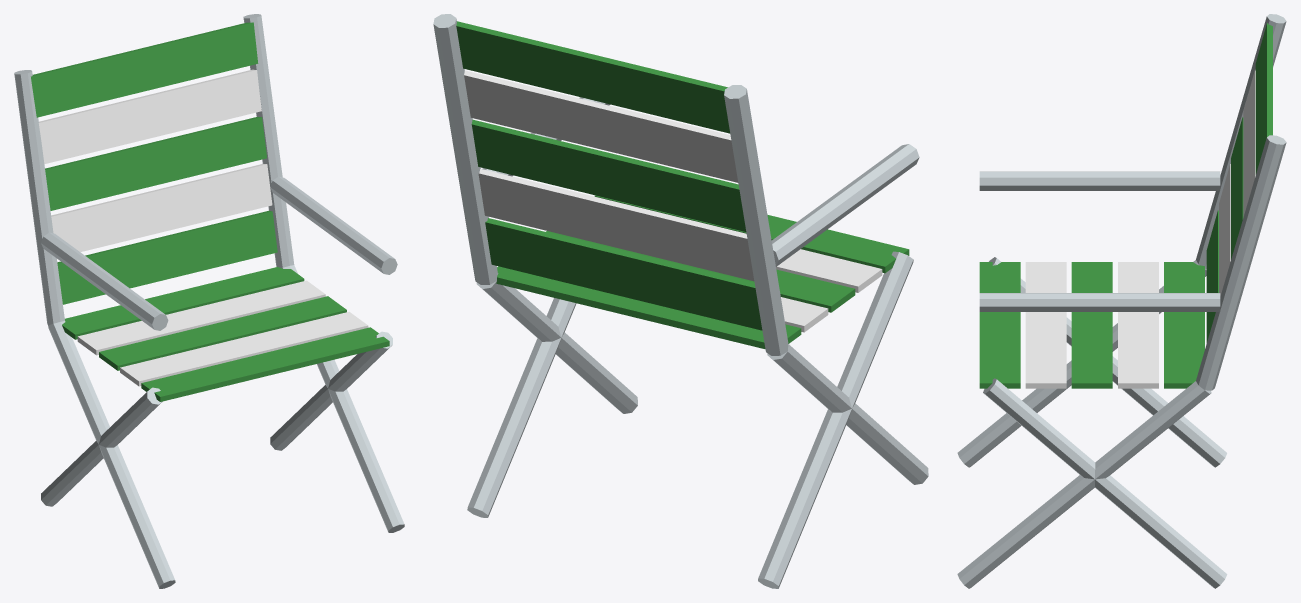
File: town_chair.glb
3 views of the same model, side by side, from view 1: azimuth 30°, elevation 25°; view 2: azimuth 150°, elevation 25°; view 3: azimuth 270°, elevation 25° (orthographic). The views are drawn at different scales.
Visible parts, largest first — view 1: TownChair_body; view 2: TownChair_body; view 3: TownChair_body.
Boxes of the visible parts, x1,y1,x2,y2 form: TownChair_body: (14,14,404,588); TownChair_body: (433,14,928,588); TownChair_body: (957,14,1286,588).
Size of the model in its own units: 0.6 by 0.97 by 0.6427.
